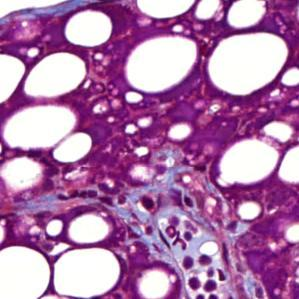steatosis: (117, 29, 203, 91), (210, 26, 283, 98), (48, 247, 126, 298), (217, 136, 279, 191), (4, 102, 77, 146), (25, 53, 90, 98), (61, 9, 113, 46), (62, 211, 113, 244), (54, 132, 93, 175), (140, 265, 174, 299)
